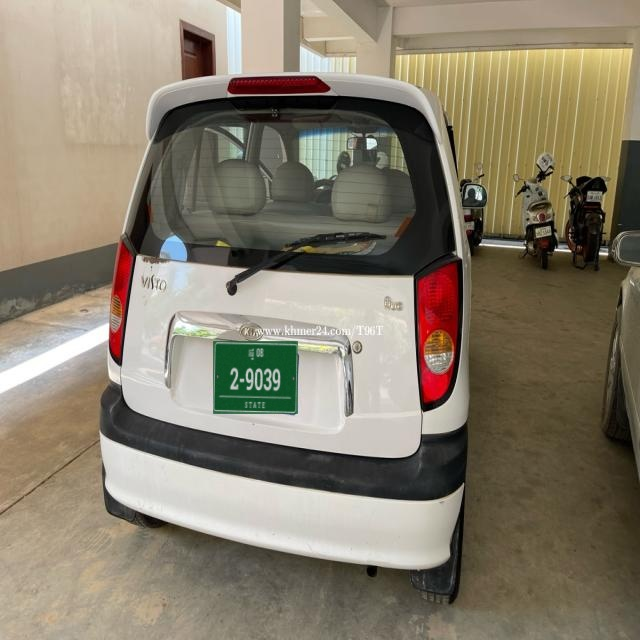Plate Number: (213, 342, 299, 414)
